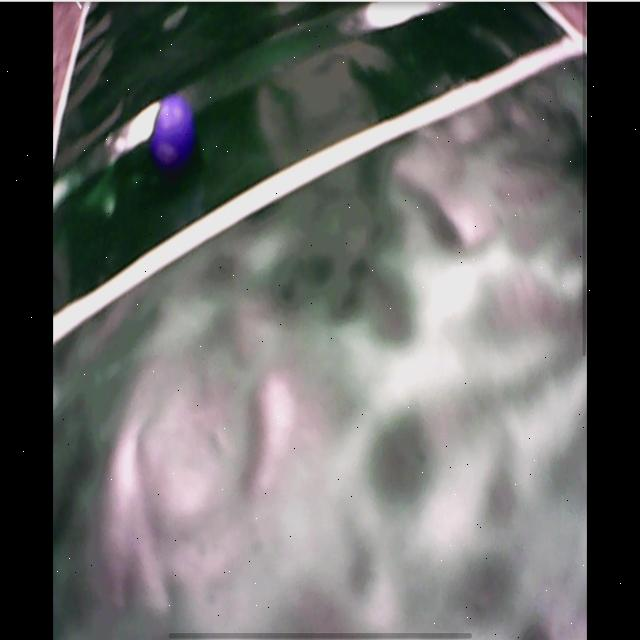ball: (151, 96, 197, 168)
